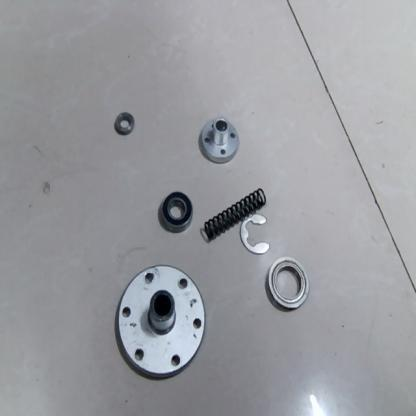FOD: (110, 262, 206, 380), (203, 184, 266, 245), (264, 257, 312, 310), (199, 110, 241, 165), (157, 189, 194, 234), (242, 210, 272, 256), (113, 111, 135, 138)
